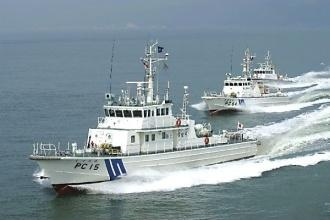warship: (23, 79, 270, 186), (203, 70, 300, 118), (256, 52, 309, 80)
